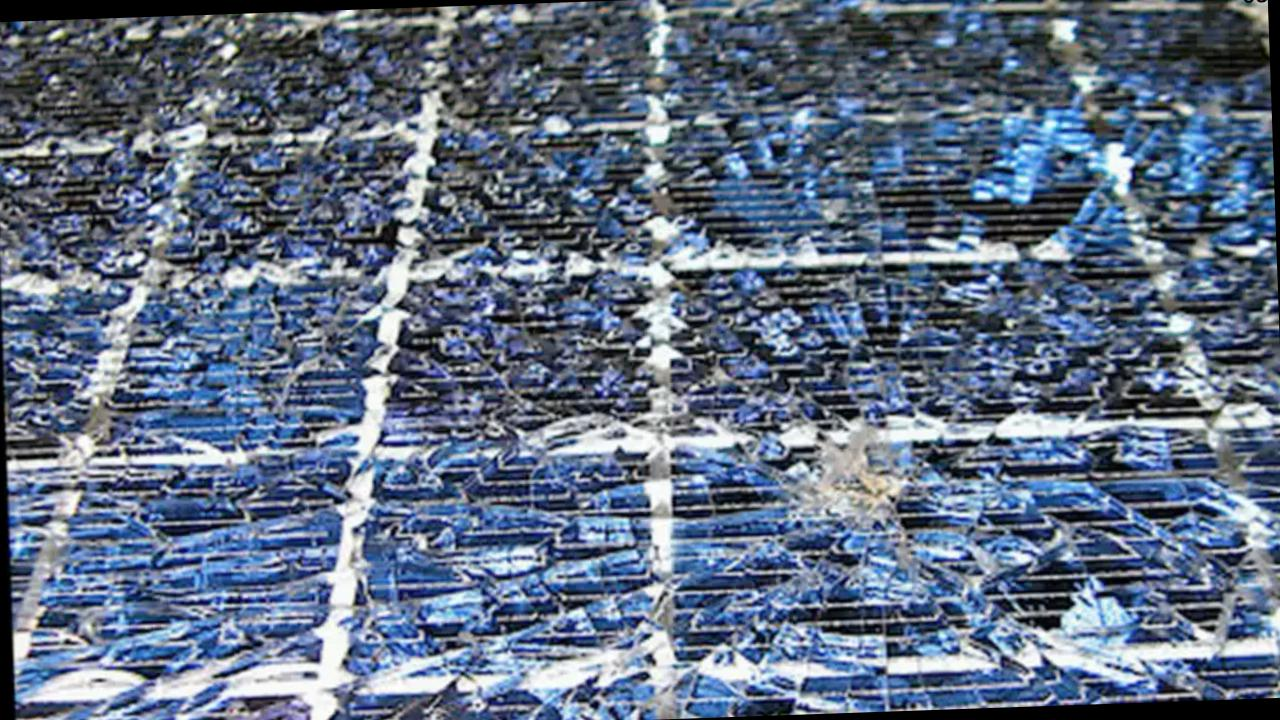Crack: (664, 323, 997, 642), (376, 459, 652, 692), (707, 117, 1127, 262), (1037, 429, 1270, 651), (93, 466, 330, 680), (142, 264, 382, 452), (941, 0, 1225, 139), (414, 323, 654, 466), (216, 21, 428, 156), (458, 163, 647, 303), (467, 13, 653, 148)
